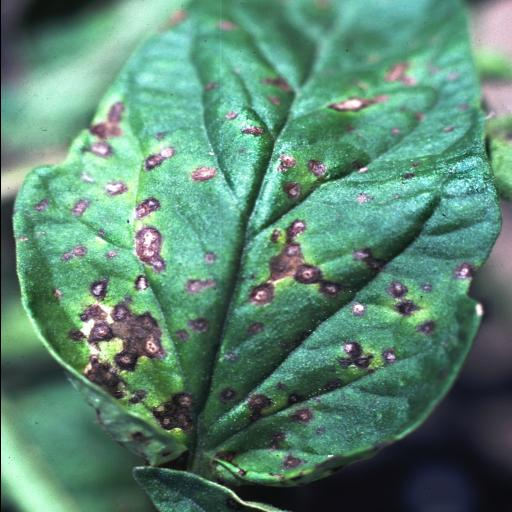Septoria: (12, 0, 502, 488)
